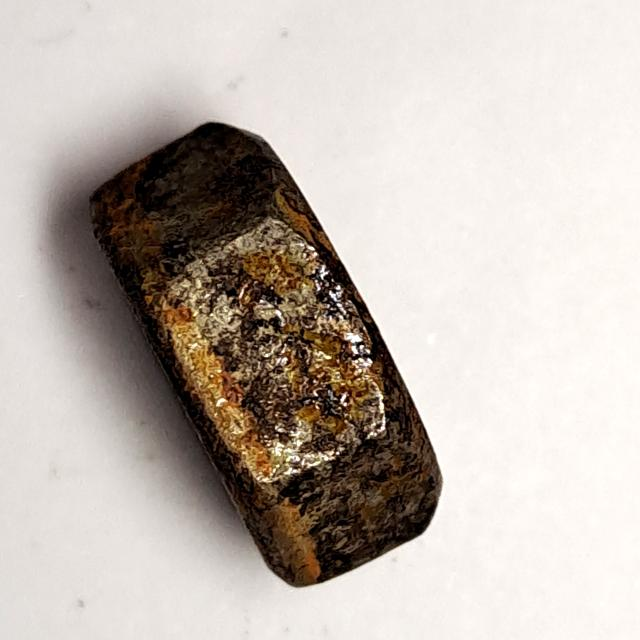Side_Rust: (77, 113, 469, 603)
